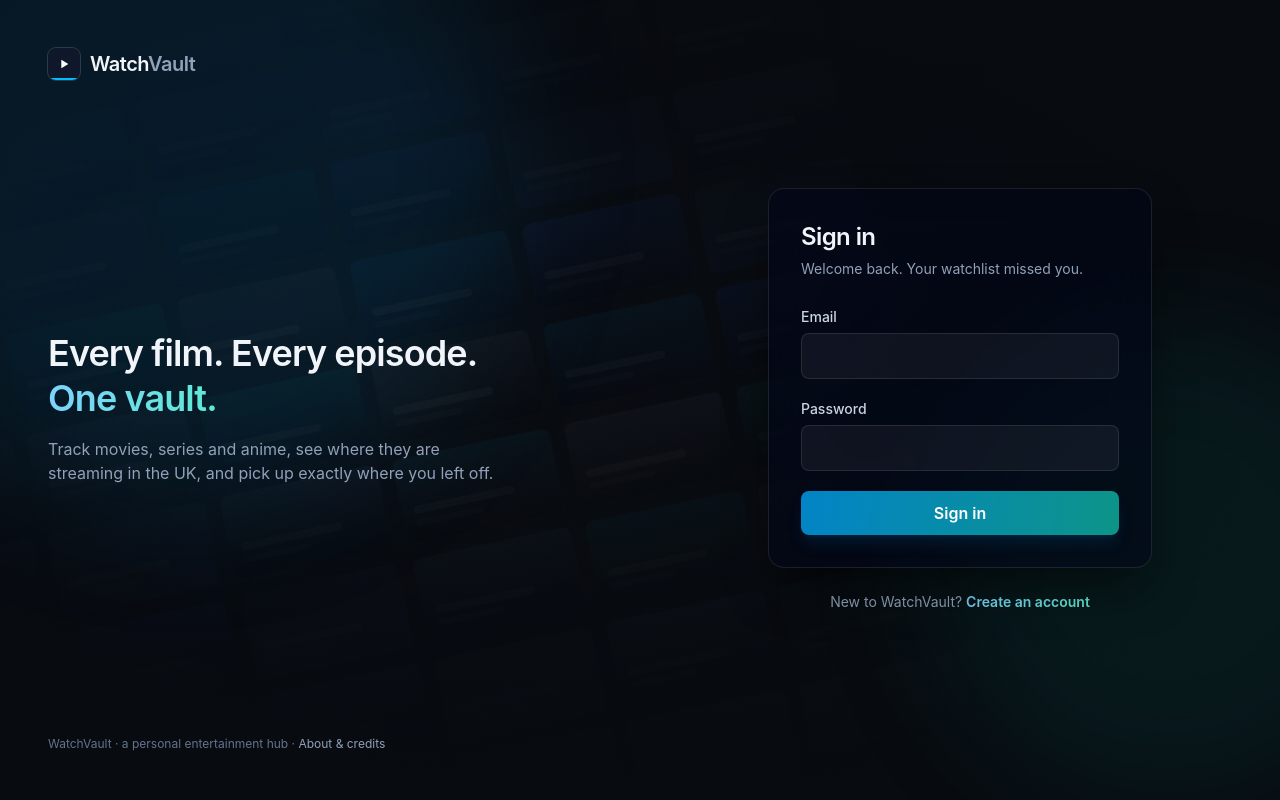
Test: login › logs in and lands on the home page
In the field labelled "Email": (960, 356) [801,333,1119,379], type "alice@example.com"
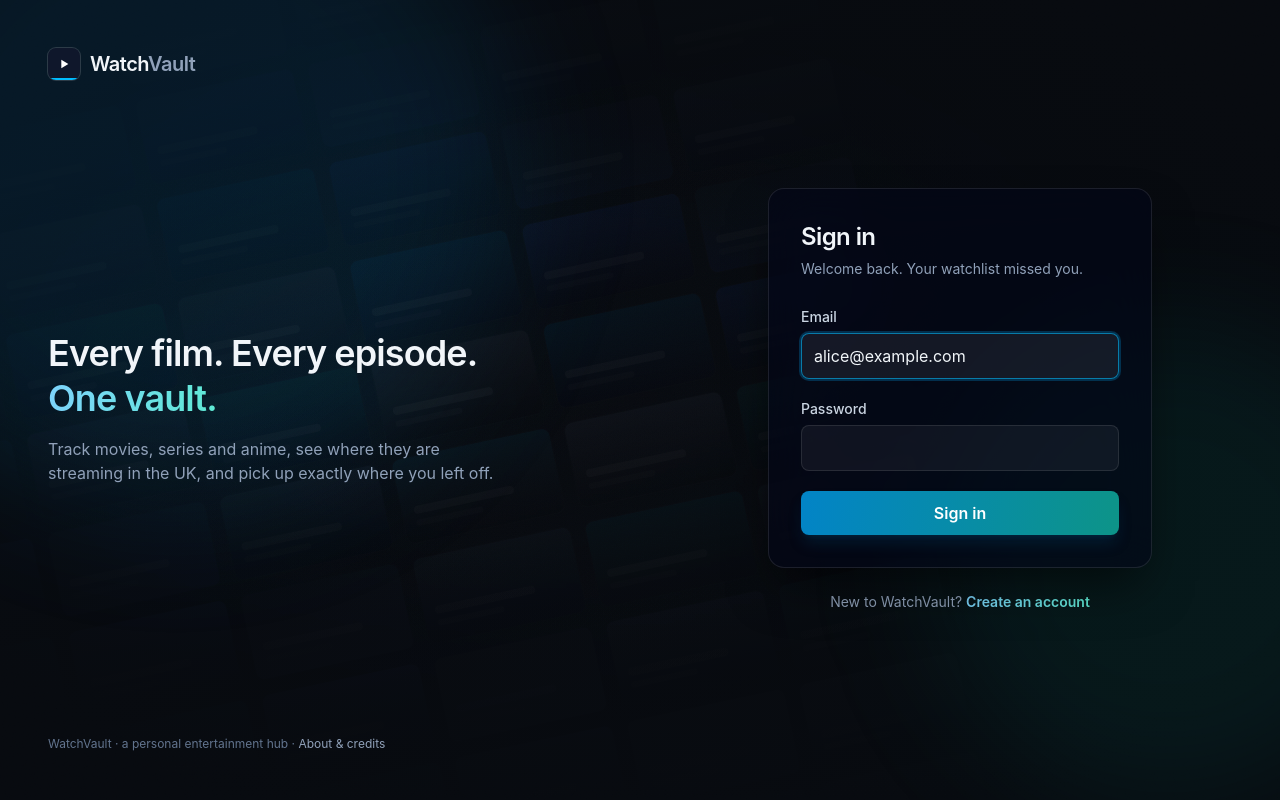
In the password field labelled "Password": (960, 448) [801,425,1119,471], type "correct horse battery"
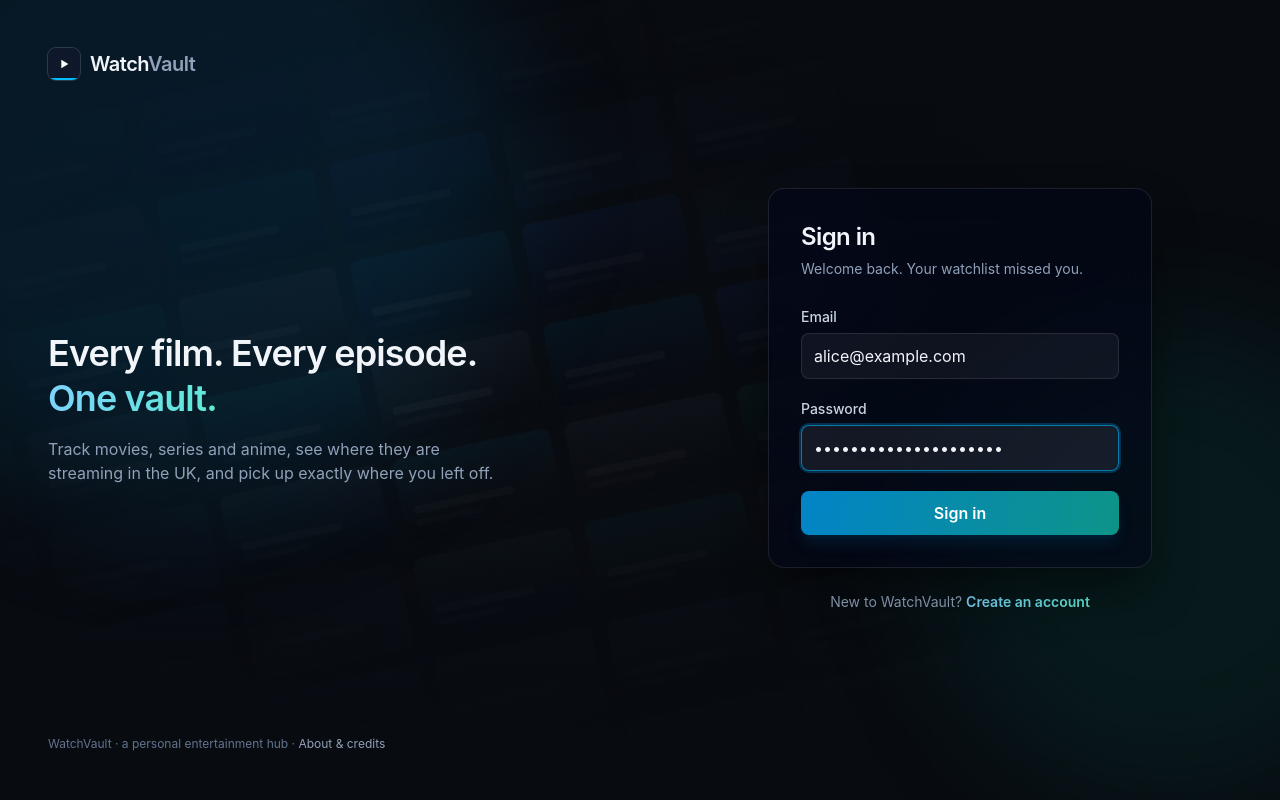
Click the button "Sign in": (960, 513) [801,491,1119,535]
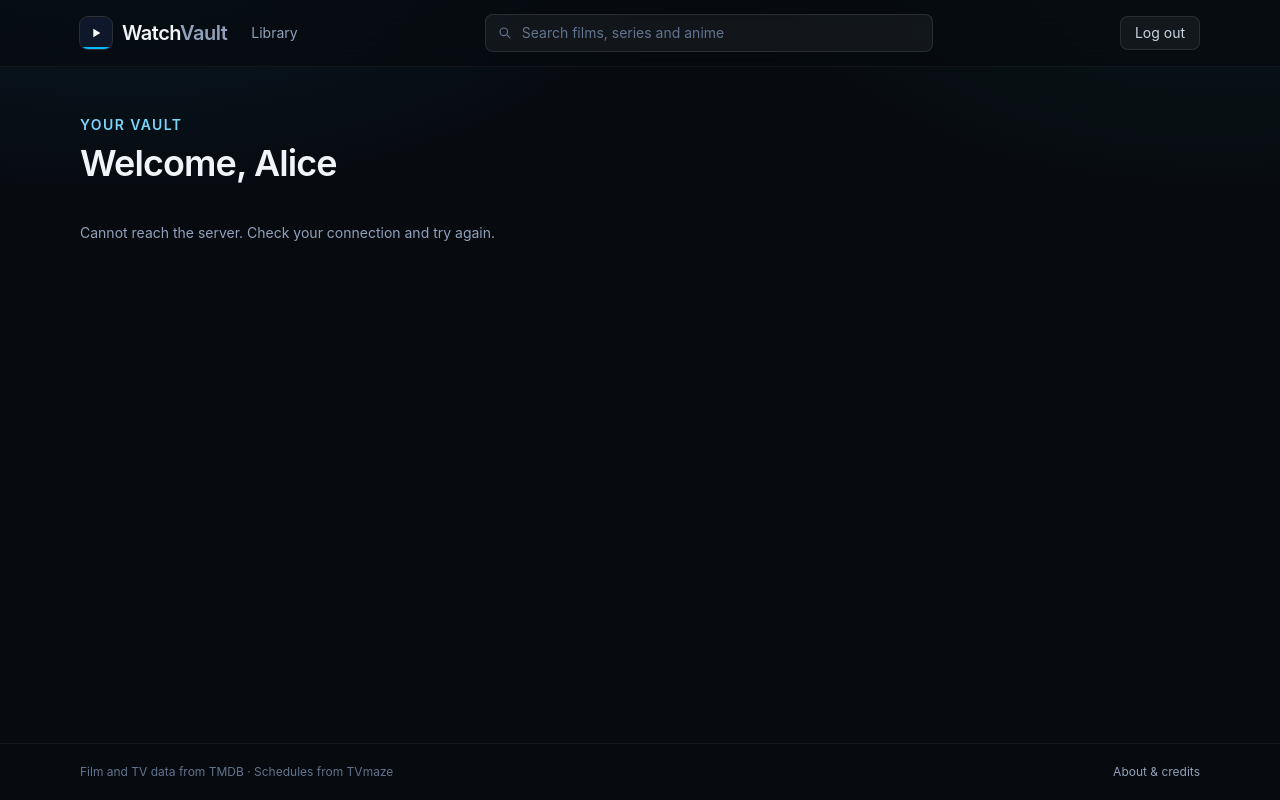
Expected: the heading "Welcome, Alice" is shown, [80,141,337,185]
